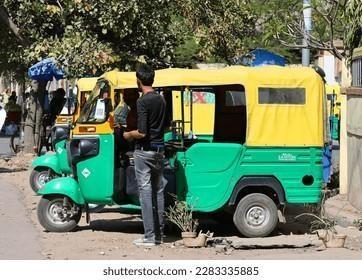keke: (33, 69, 296, 247)
